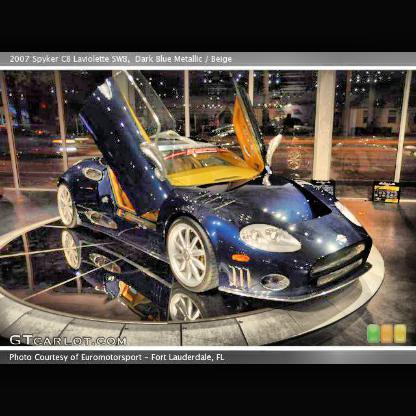Spyker C8 Convertible 2009: (59, 73, 375, 310)
